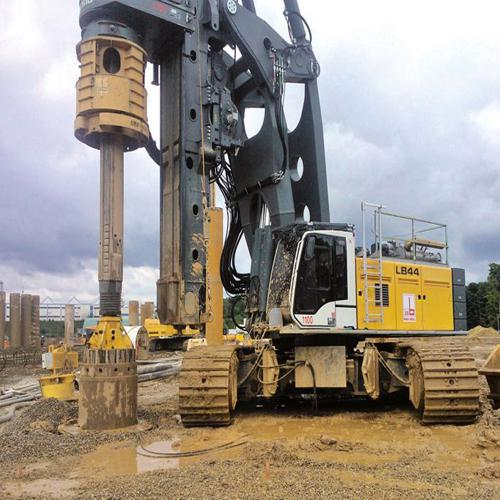con_eq: (73, 1, 491, 424)
